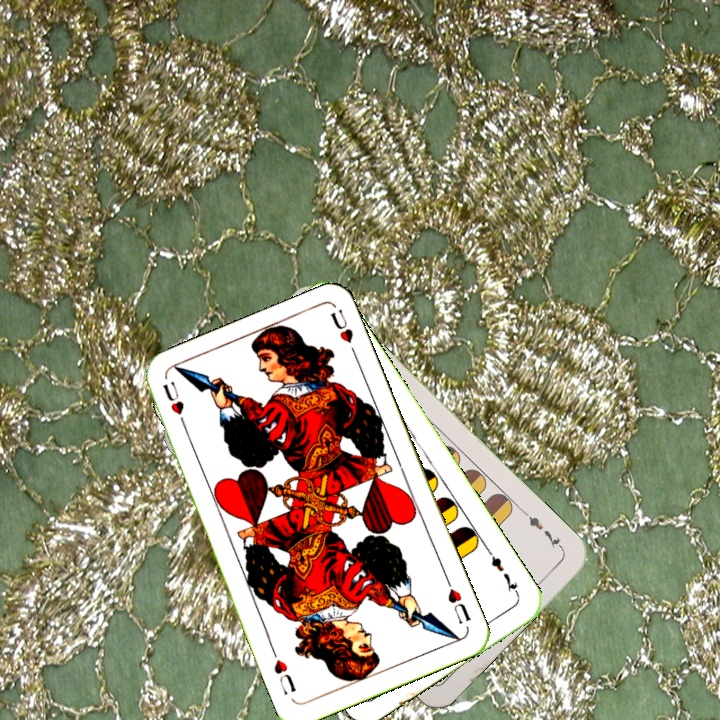E7: (519, 507, 566, 552), (483, 546, 522, 599)
HU: (158, 377, 190, 433), (441, 574, 474, 627)
